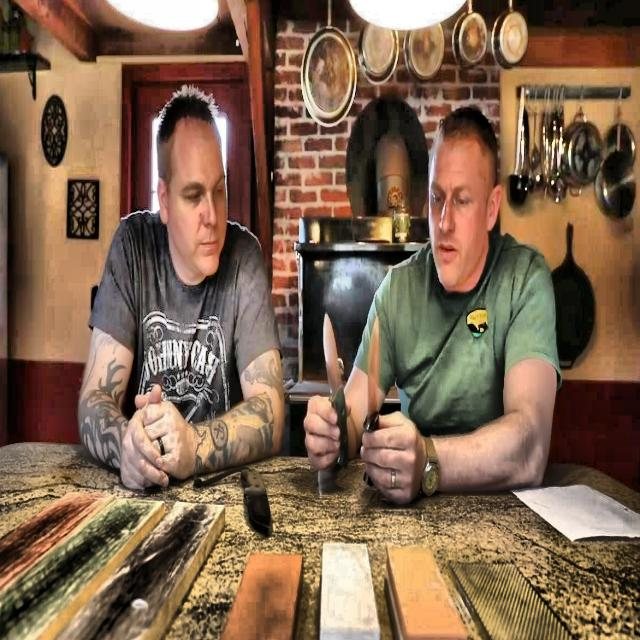knife: (323, 317, 350, 468), (364, 320, 381, 487), (241, 467, 271, 528)
